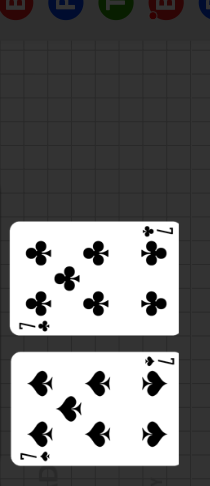7C: (141, 223, 175, 238)
7S: (143, 354, 176, 368)
